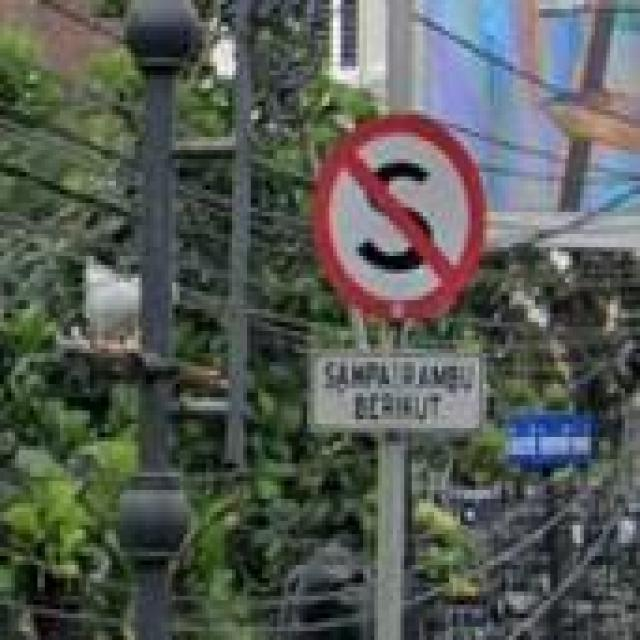traffic sign: (311, 119, 491, 322)
